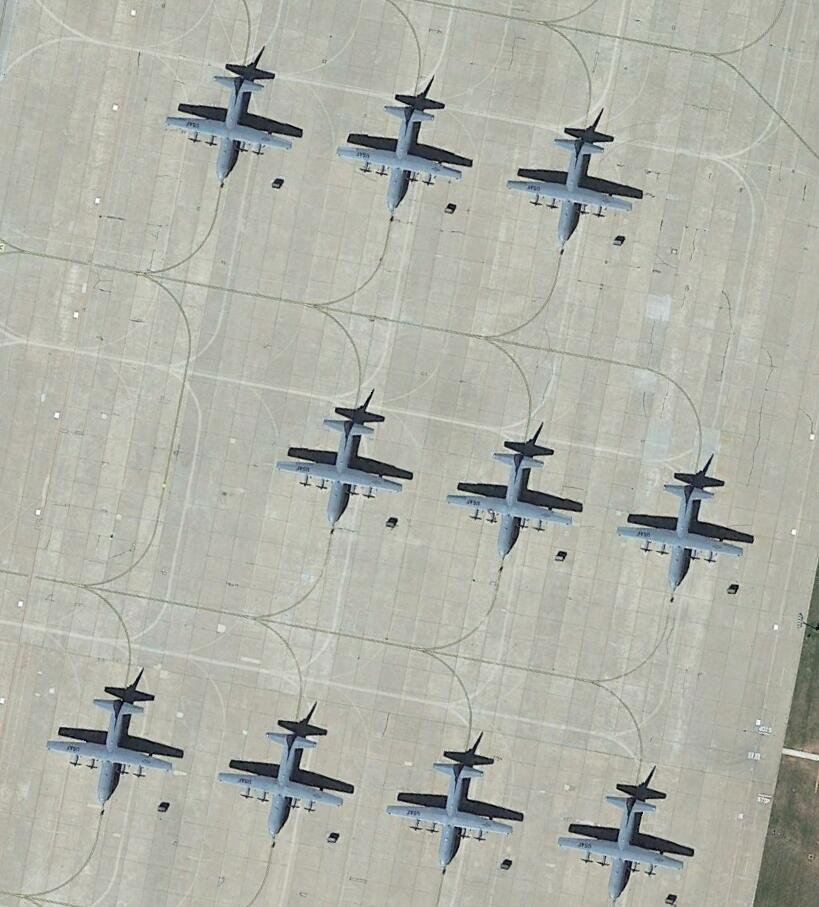A2: (607, 472, 761, 593), (552, 785, 701, 904), (211, 721, 361, 839), (440, 444, 594, 557), (499, 131, 647, 248), (270, 409, 418, 526), (43, 687, 189, 805), (164, 69, 303, 188), (331, 97, 476, 207), (388, 755, 529, 868)
